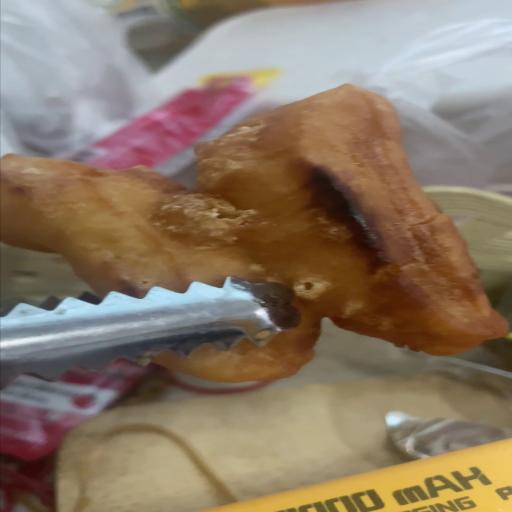street_burnt_defect: (0, 84, 503, 383)
